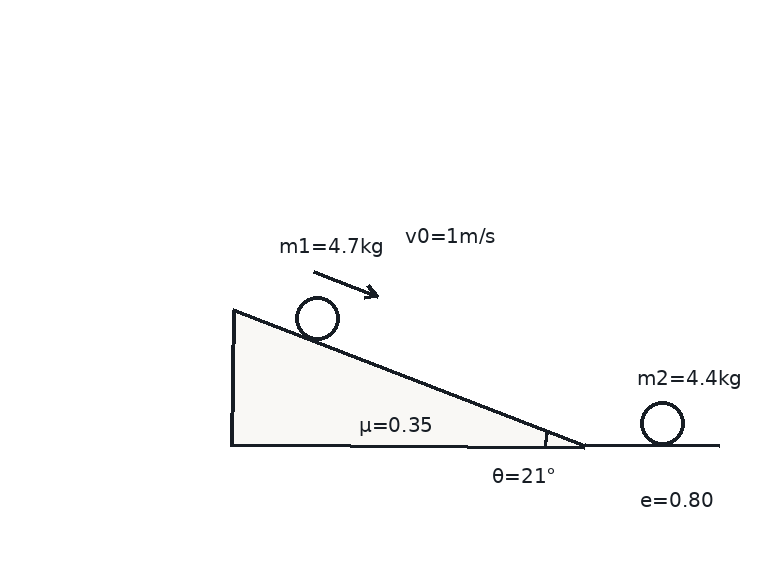ball: (293, 294, 341, 342), (638, 399, 686, 447)
ramp: (231, 308, 587, 447)
